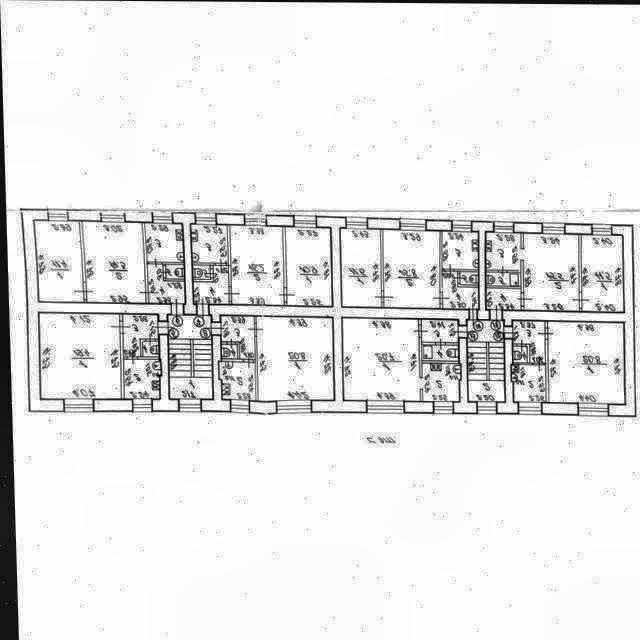room: (38, 312, 119, 400), (254, 316, 334, 403), (545, 320, 625, 404), (340, 318, 419, 401), (84, 222, 143, 304), (381, 229, 439, 308), (228, 225, 283, 305), (521, 233, 578, 310), (284, 226, 332, 307), (166, 314, 211, 399), (35, 221, 80, 302), (579, 234, 622, 312), (339, 229, 381, 307), (464, 319, 503, 403), (144, 223, 182, 263), (420, 362, 458, 402), (121, 314, 156, 357), (219, 316, 253, 360), (440, 230, 477, 269), (122, 359, 158, 399), (147, 265, 183, 303), (440, 232, 478, 268), (441, 271, 477, 309), (191, 225, 226, 264), (485, 232, 520, 271), (511, 321, 543, 363), (192, 266, 227, 304), (219, 363, 253, 400), (512, 364, 544, 402), (419, 320, 457, 343), (485, 288, 518, 308), (420, 345, 456, 361), (485, 273, 518, 285), (511, 346, 526, 364), (164, 265, 183, 279), (191, 265, 209, 279), (458, 272, 477, 284), (220, 345, 235, 359)
